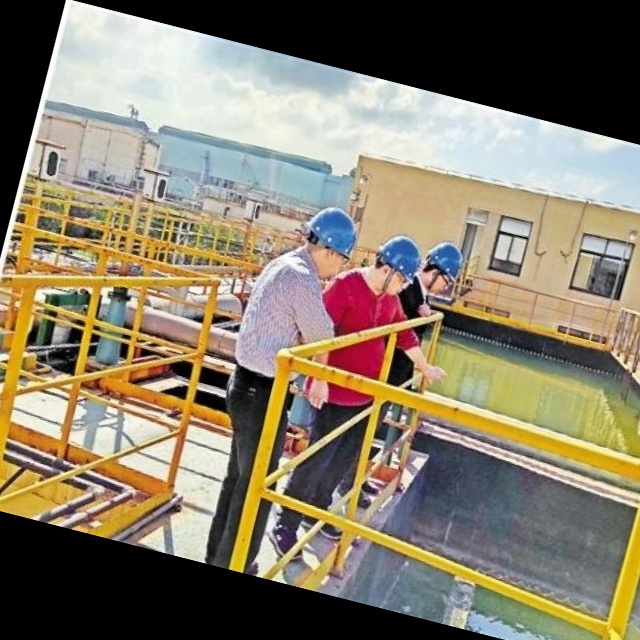Con_Casco: (297, 200, 362, 281), (366, 229, 426, 300)
